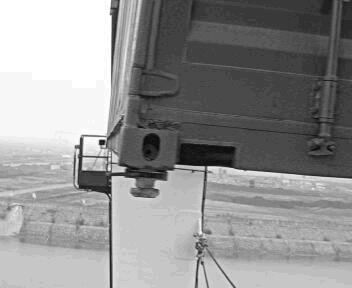twist_lock_1: (117, 166, 174, 206)
